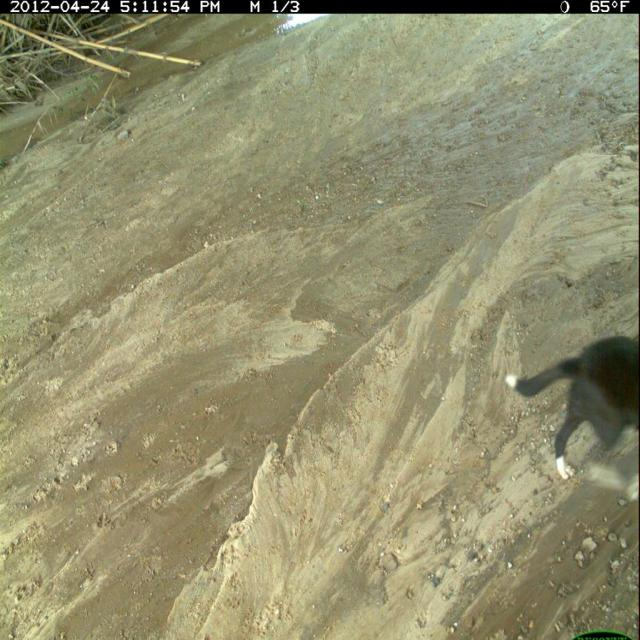dog: (503, 328, 640, 508)
